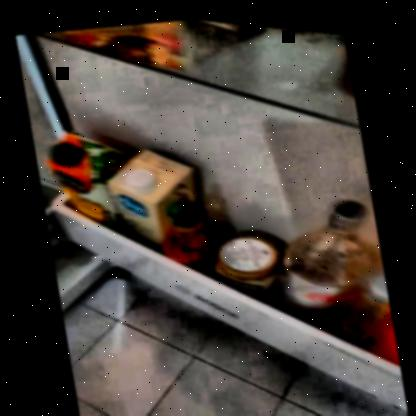milk: (104, 143, 180, 236)
